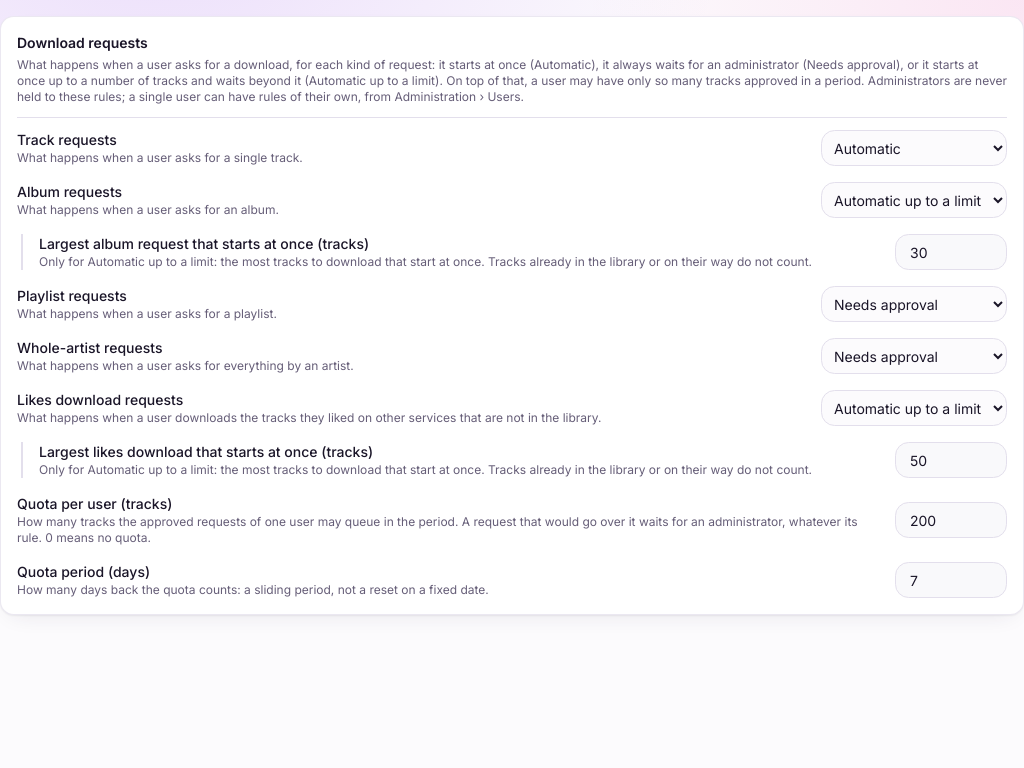
Scenario: the download request policy in the generated settings area › choosing the mode shows its threshold at once, before saving, and choosing another hides it
expect the heading "Download requests" is shown: met, box [17,34,148,51]
Select "Automatic up to a limit" in the dropdown named "Playlist requests" at point(914, 304), box [821,286,1007,322]
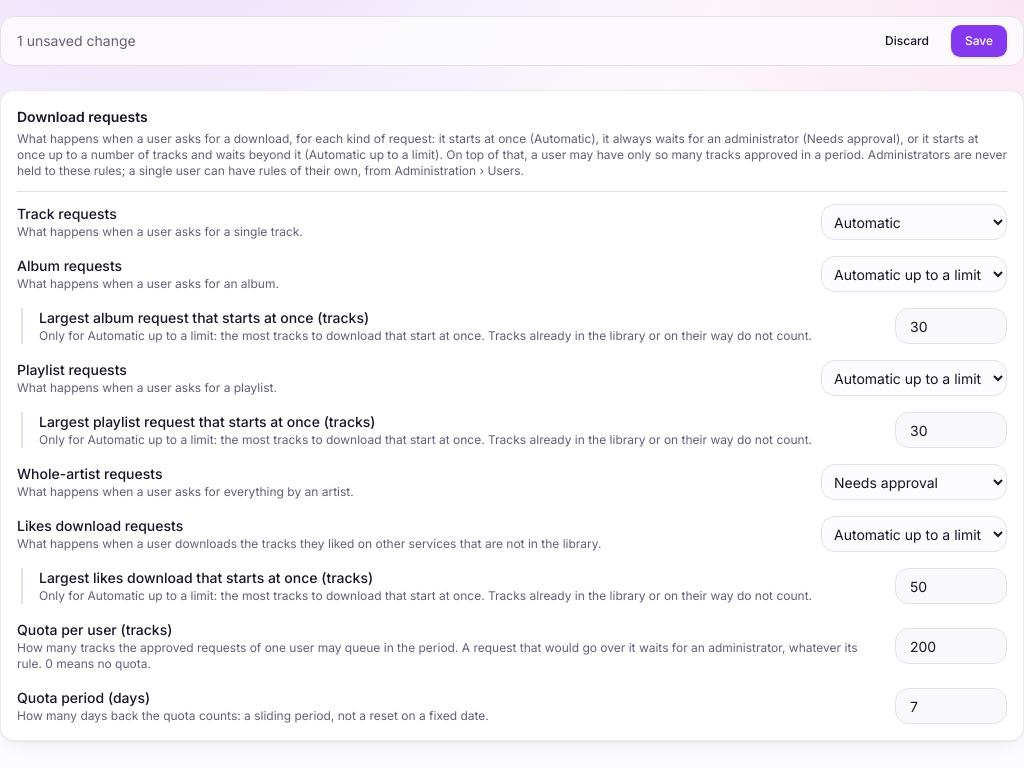
expect the number field named "Largest playlist request that starts at once (tracks)" holds "30": met, box [895,412,1007,448]
Select "Automatic" in the dropdown named "Album requests" at point(914, 274), box [821,256,1007,292]
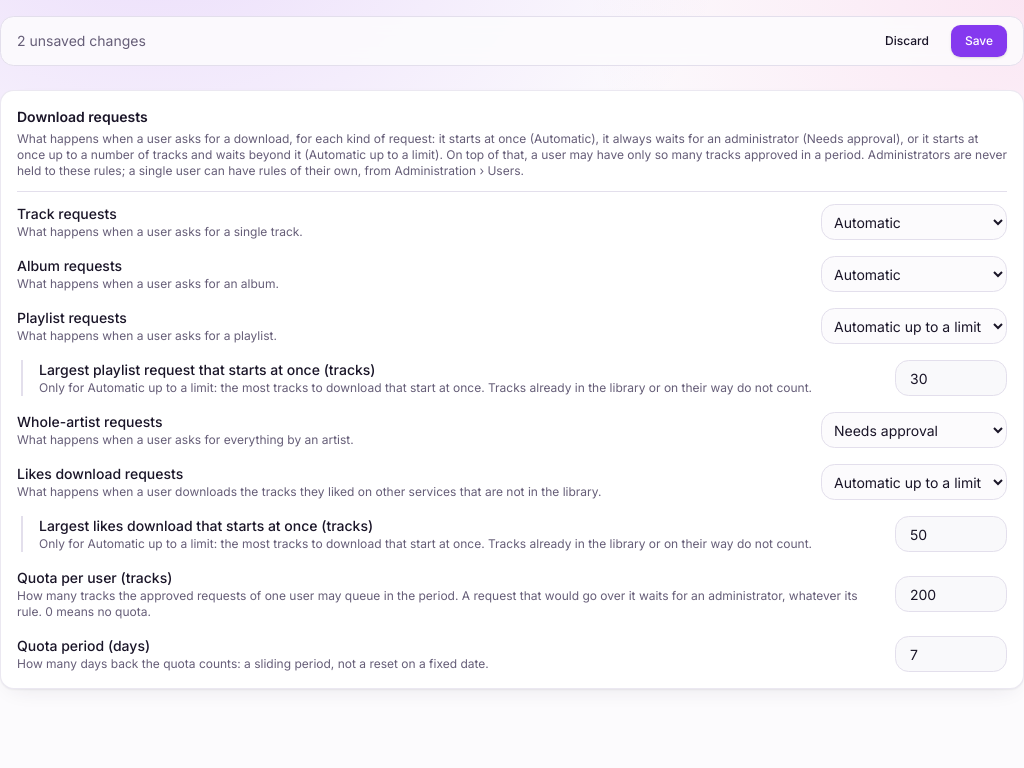
expect the text "Largest album request that starts at once (tracks)" is gone: met
